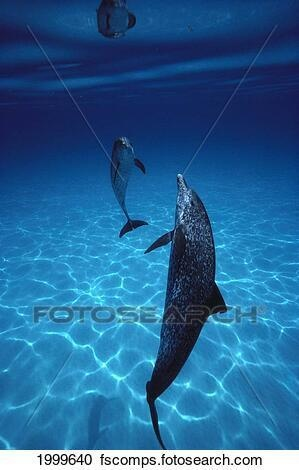fish: (145, 171, 232, 466), (107, 137, 151, 235)
